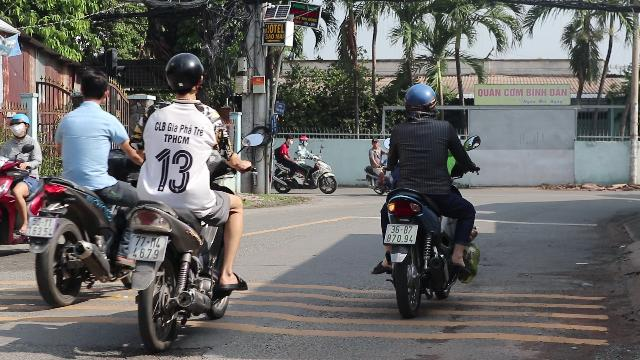helmet: (163, 52, 205, 99), (402, 82, 438, 120), (8, 112, 30, 138)
licenseplate: (128, 234, 168, 262), (384, 224, 418, 244), (24, 218, 56, 236)
motorcyclist: (126, 51, 250, 348), (24, 68, 144, 304), (368, 79, 484, 311), (0, 112, 44, 256)
nohelmet: (76, 71, 110, 108)
